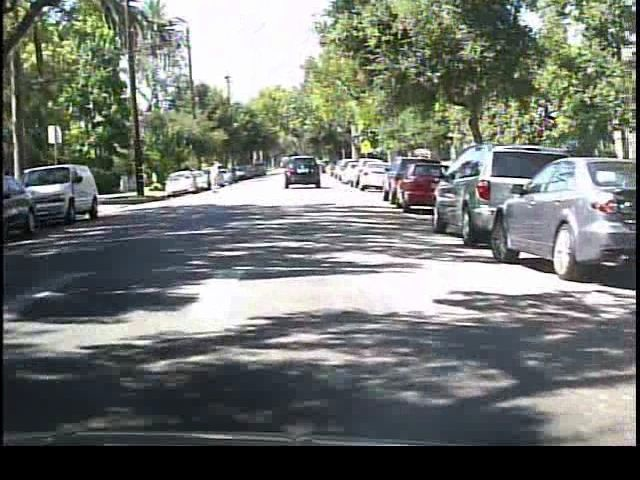person: (205, 156, 226, 196)
